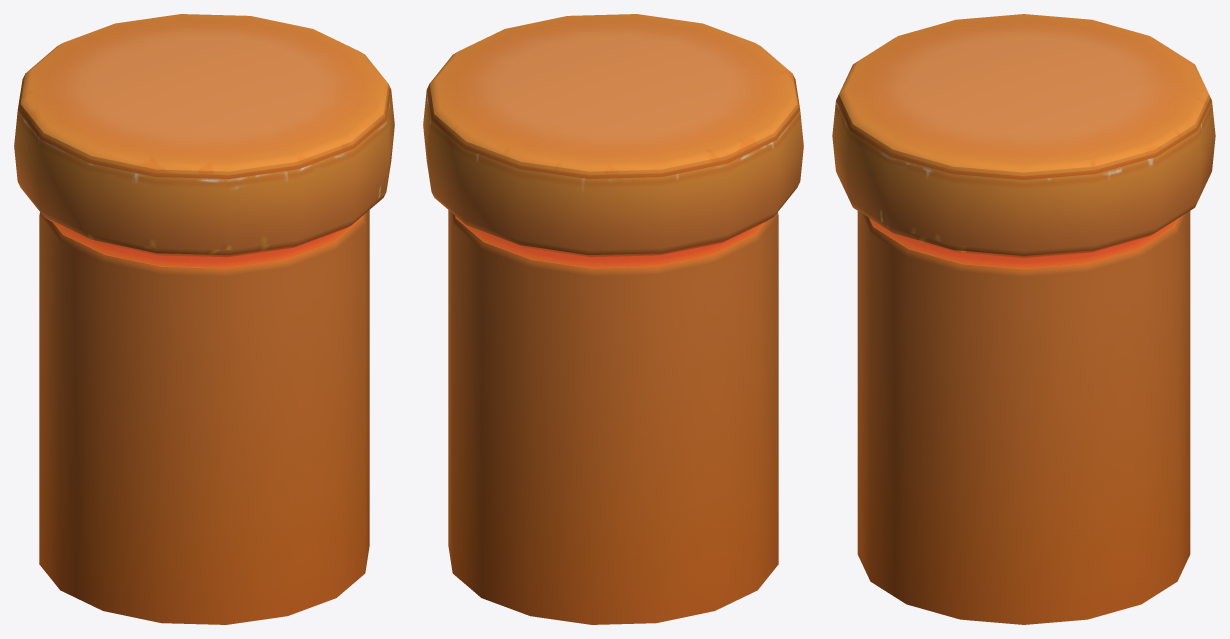
Rendered from GB_pedestal.fbx.
3 renders of one model, left to right at view 1: azimuth 30°, elevation 25°; view 2: azimuth 150°, elevation 25°; view 3: azimuth 270°, elevation 25°, orthographic.
Visible parts, largest first — view 1: pedestal; view 2: pedestal; view 3: pedestal.
Part boxes in pixels (x1=…): pedestal: x1=14, y1=14, x2=394, y2=624; pedestal: x1=423, y1=14, x2=803, y2=624; pedestal: x1=832, y1=14, x2=1215, y2=624.
Bounding box in the file's own units: 78.41 × 107 × 78.41.
